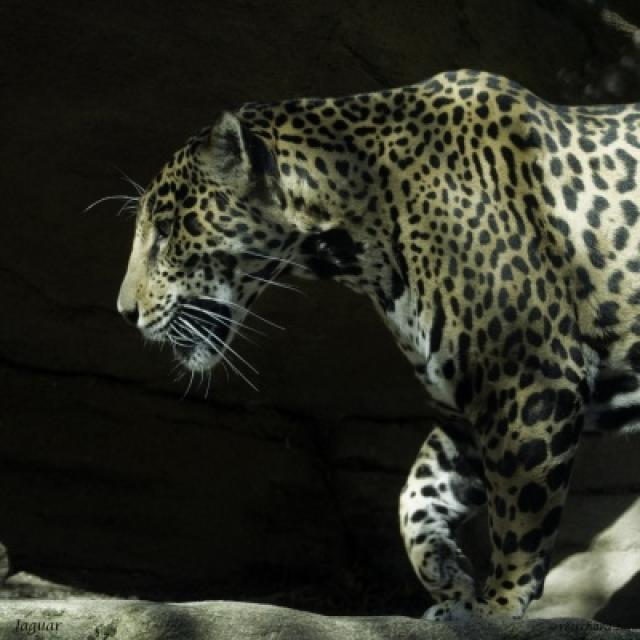Jaguar: (115, 70, 638, 616)
